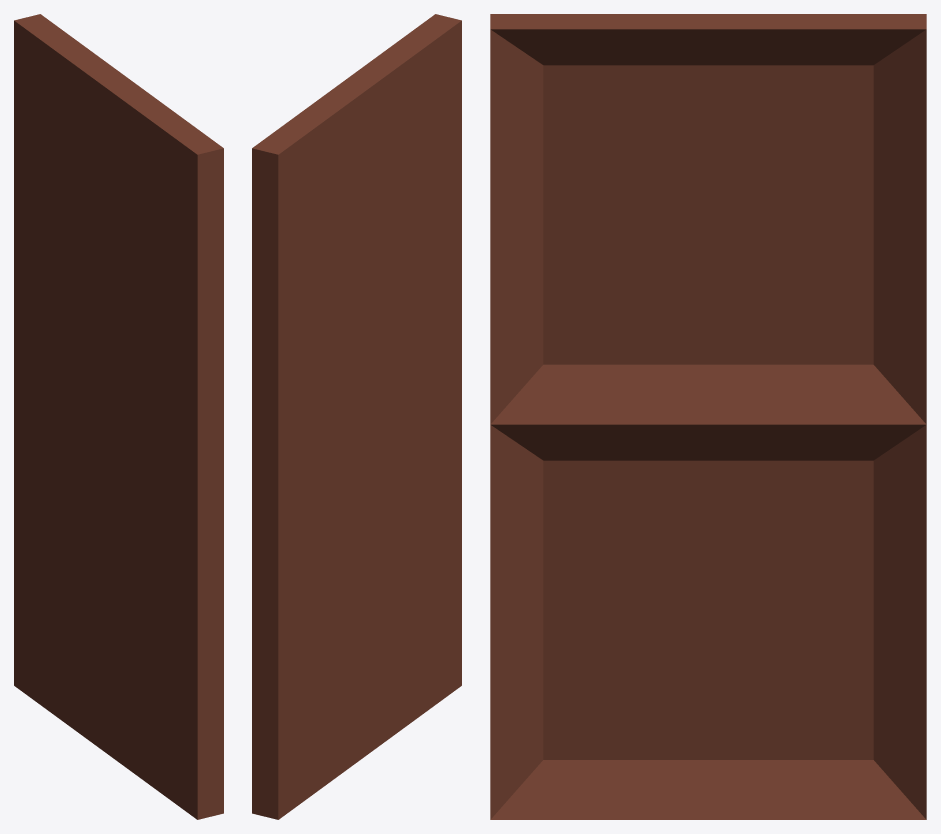
Rendered from Hallway3.fbx.
The picture shows the model from 3 angles, left to right: view 1: azimuth 30°, elevation 25°; view 2: azimuth 150°, elevation 25°; view 3: azimuth 270°, elevation 25°; orthographic projection. The views are drawn at different scales.
Parts seen in each view (by area): view 1: Door.001; view 2: Door.001; view 3: Door.001.
Boxes of the visible parts, x1,y1,x2,y2 form: Door.001: [14, 14, 223, 819]; Door.001: [252, 14, 461, 819]; Door.001: [490, 14, 926, 819].
Size of the model in its own units: 10 by 240 by 120.
